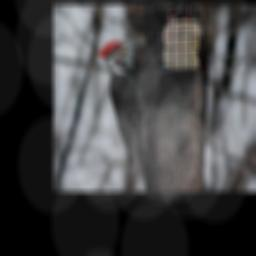Woodpecker: (98, 38, 169, 188)
